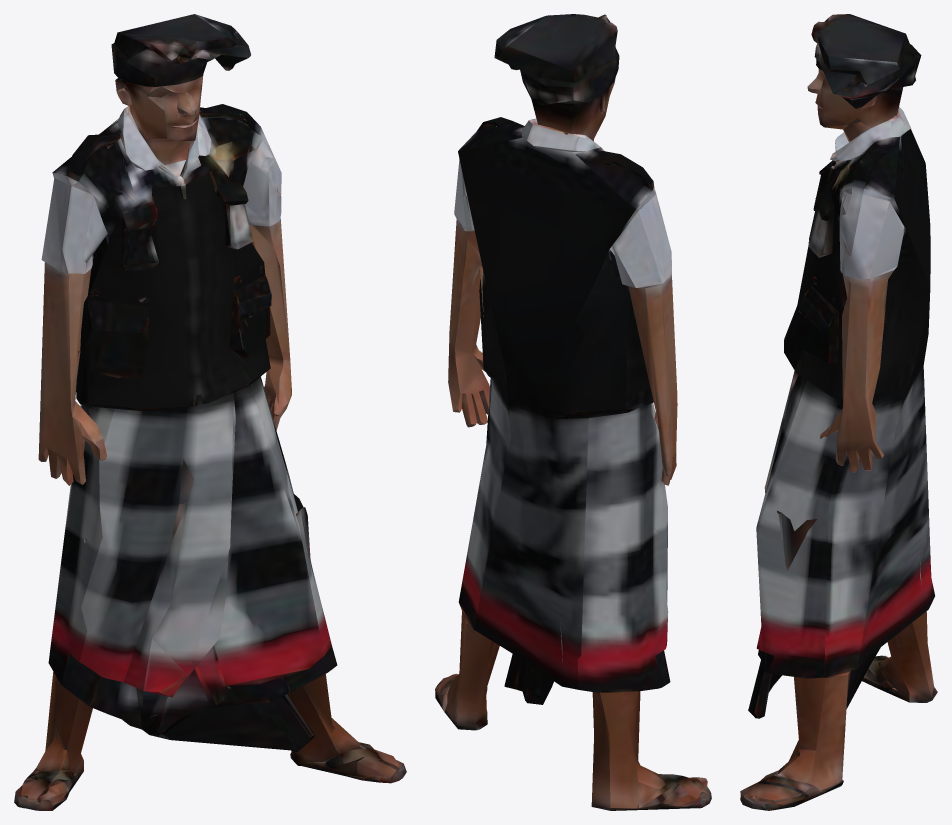
The model's file is pecalang_idle_lod2.glb.
3 views of the same model, side by side, from view 1: azimuth 30°, elevation 25°; view 2: azimuth 150°, elevation 25°; view 3: azimuth 270°, elevation 25° (orthographic). The views are drawn at different scales.
Parts seen in each view (by area): view 1: tripo_node_101afab6; view 2: tripo_node_101afab6; view 3: tripo_node_101afab6.
Boxes of the visible parts, x1,y1,x2,y2 form: tripo_node_101afab6: (14,14,406,810); tripo_node_101afab6: (435,14,711,810); tripo_node_101afab6: (740,14,937,810).
Bounding box in the file's own units: 45.38 × 99.04 × 25.2.
1 material, 1 textured.
